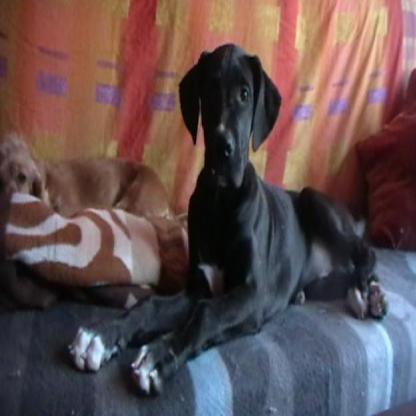Great_Dane: (66, 42, 388, 392)
